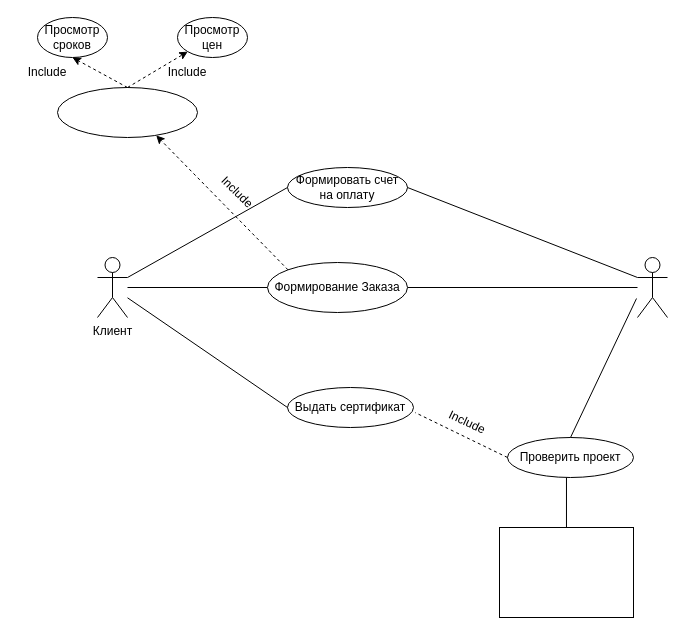
This 693x635 diagram has some shape labels left out. Each missing label, with the centre of its shape:
В полном соответствии с ГОСТ: (566,572)
Просмотр информации о заказе: (127,112)
Рабочий: (652,287)
